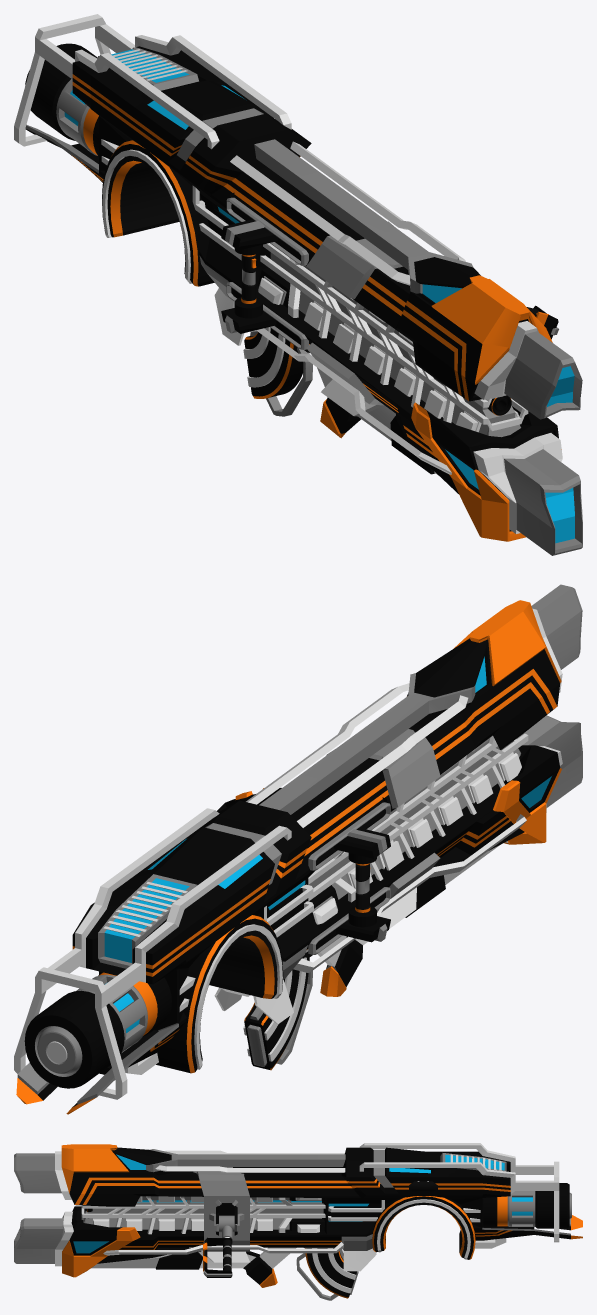
Rendered from Artemis Cannon MKII.fbx.
3 views of the same model, one above another, from view 1: azimuth 30°, elevation 25°; view 2: azimuth 150°, elevation 25°; view 3: azimuth 270°, elevation 25° (orthographic). The views are drawn at different scales.
Parts seen in each view (by area): view 1: Artemis Cannon, Shoulder Rest, Magazine, Power Core, Right Grip Brace, Right Grip Brace Adjust Rail, Right Grip; view 2: Artemis Cannon, Power Core, Shoulder Rest, Magazine, Right Grip Brace, Right Grip Brace Adjust Rail, Right Grip; view 3: Artemis Cannon, Power Core, Shoulder Rest, Magazine, Left Panel, Left Grip, Left Grip Brace.
Boxes of the visible parts, x1,y1,x2,y2 form: Artemis Cannon: [14, 14, 582, 555]; Shoulder Rest: [102, 140, 214, 286]; Magazine: [243, 327, 312, 416]; Power Core: [25, 43, 98, 156]; Right Grip Brace: [221, 217, 279, 333]; Right Grip Brace Adjust Rail: [226, 192, 309, 352]; Right Grip: [234, 244, 262, 318]; Artemis Cannon: [14, 584, 582, 1114]; Power Core: [24, 972, 171, 1088]; Shoulder Rest: [156, 915, 283, 1073]; Magazine: [243, 957, 312, 1070]; Right Grip Brace: [333, 825, 390, 942]; Right Grip Brace Adjust Rail: [303, 797, 390, 957]; Right Grip: [348, 853, 376, 927]; Artemis Cannon: [14, 1143, 582, 1287]; Power Core: [483, 1183, 571, 1228]; Shoulder Rest: [372, 1196, 475, 1259]; Magazine: [296, 1248, 358, 1300]; Left Panel: [204, 1181, 437, 1240]; Left Grip: [203, 1215, 234, 1277]; Left Grip Brace: [209, 1200, 244, 1235].
Bounding box in the file's own units: 383 × 417 × 1404.
